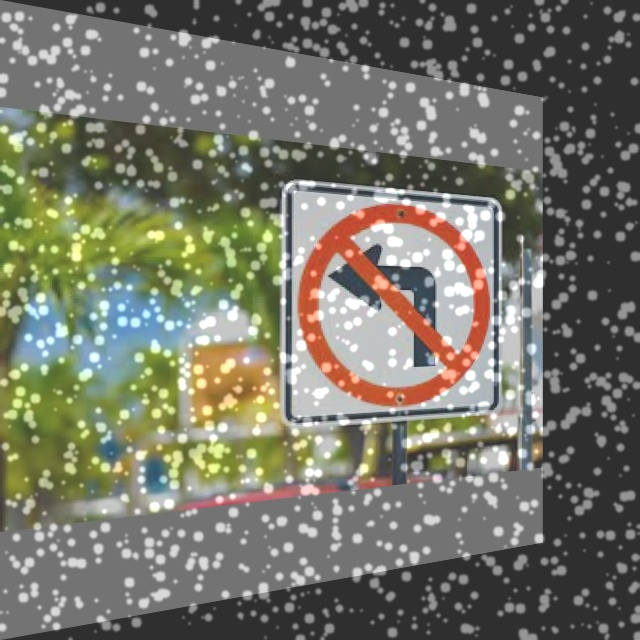Left_Turn_Prohibited: (297, 194, 494, 419)
